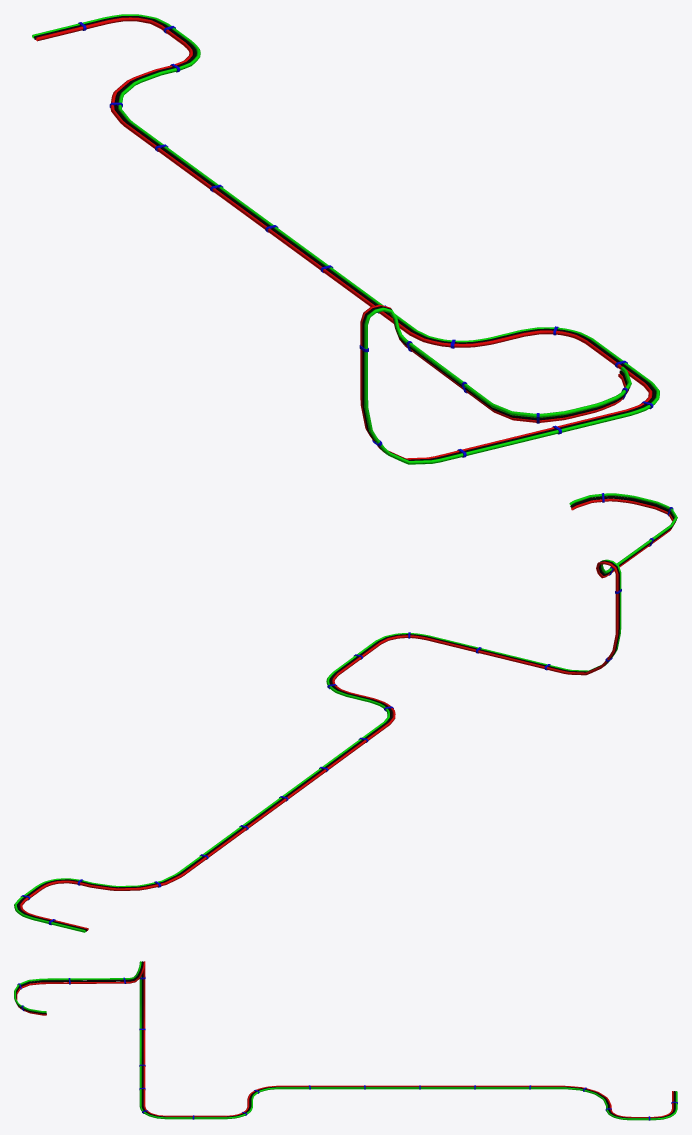
File: SM_Cable.fbx
The picture shows the model from 3 angles, top to bottom: view 1: azimuth 30°, elevation 25°; view 2: azimuth 150°, elevation 25°; view 3: azimuth 270°, elevation 25°; orthographic projection. The views are drawn at different scales.
Parts seen in each view (by area): view 1: SM_Cable; view 2: SM_Cable; view 3: SM_Cable.
Boxes of the visible parts, x1,y1,x2,y2 form: SM_Cable: [32, 14, 659, 464]; SM_Cable: [14, 493, 677, 932]; SM_Cable: [14, 961, 677, 1120].
Bounding box in the file's own units: 1008 × 509 × 3620.
